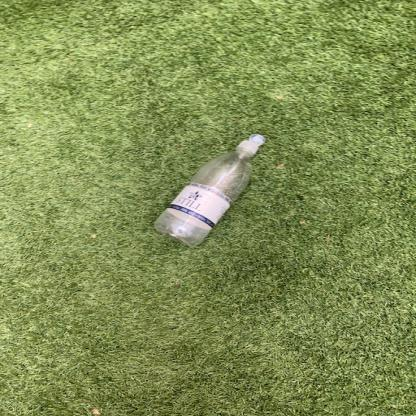trash: (154, 133, 270, 249)
